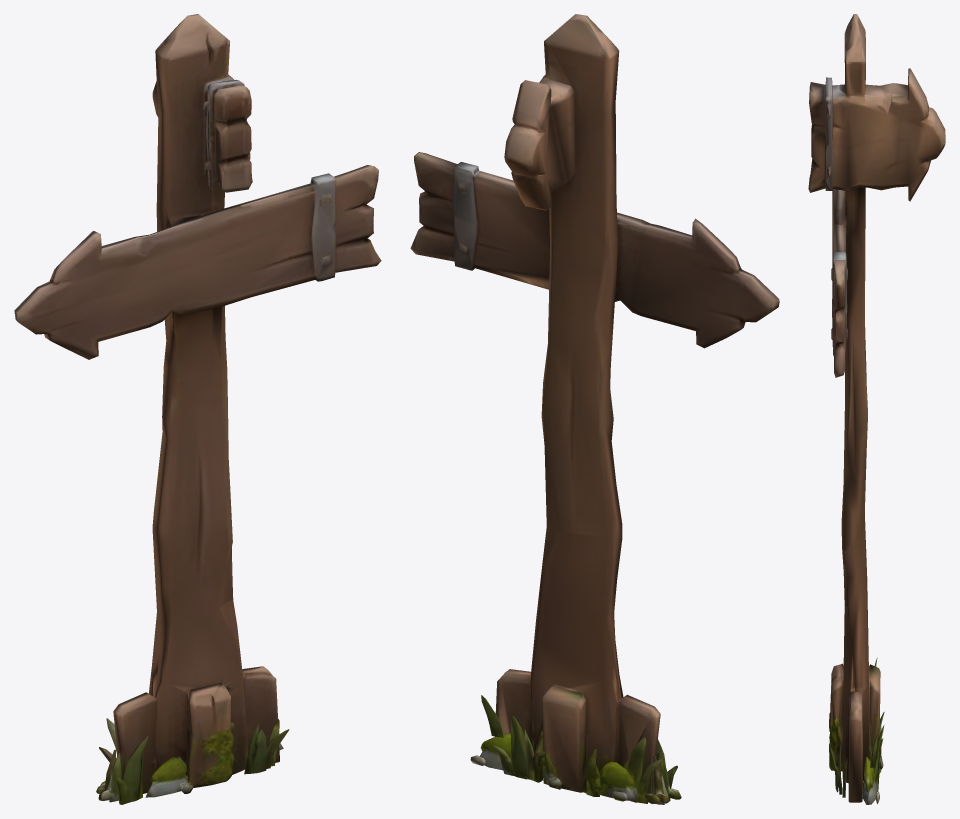
File: signpost-a.glb
The picture shows the model from 3 angles, left to right: view 1: azimuth 30°, elevation 25°; view 2: azimuth 150°, elevation 25°; view 3: azimuth 270°, elevation 25°; orthographic projection. The views are drawn at different scales.
Visible parts, largest first — view 1: node_0; view 2: node_0; view 3: node_0.
Boxes of the visible parts, x1,y1,x2,y2 form: node_0: (14, 14, 381, 804); node_0: (410, 14, 779, 804); node_0: (808, 14, 945, 804).
Size of the model in its own units: 1.2 by 2.4 by 0.3995.
Materials: 1 (1 with a texture image).
